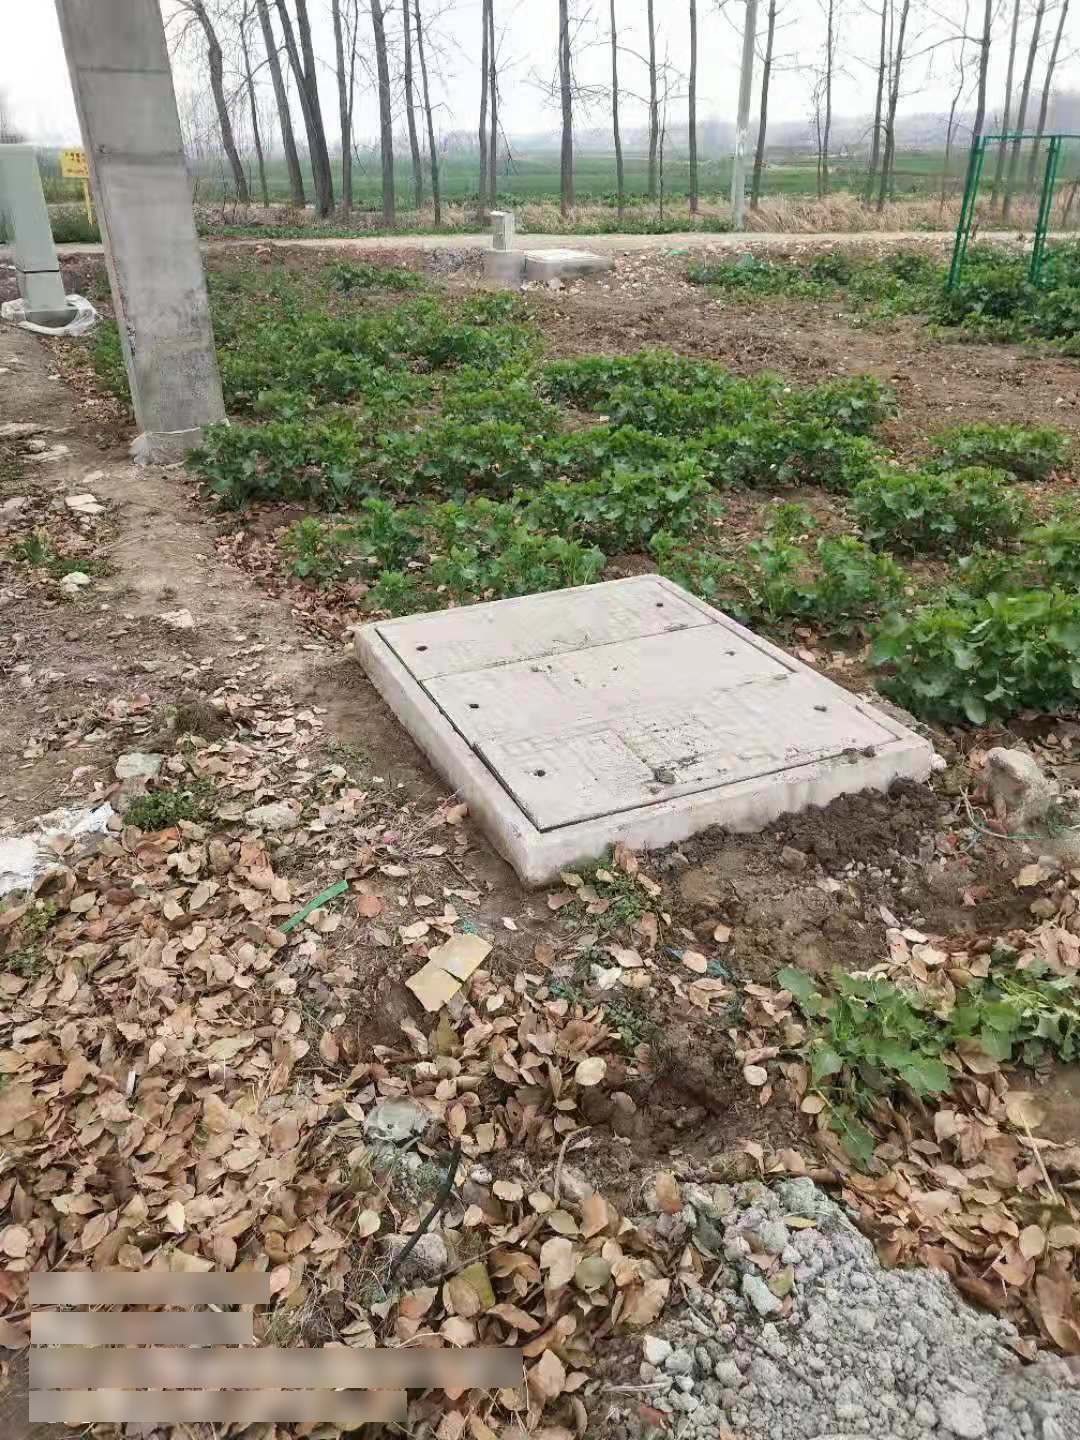well: (358, 570, 902, 869)
